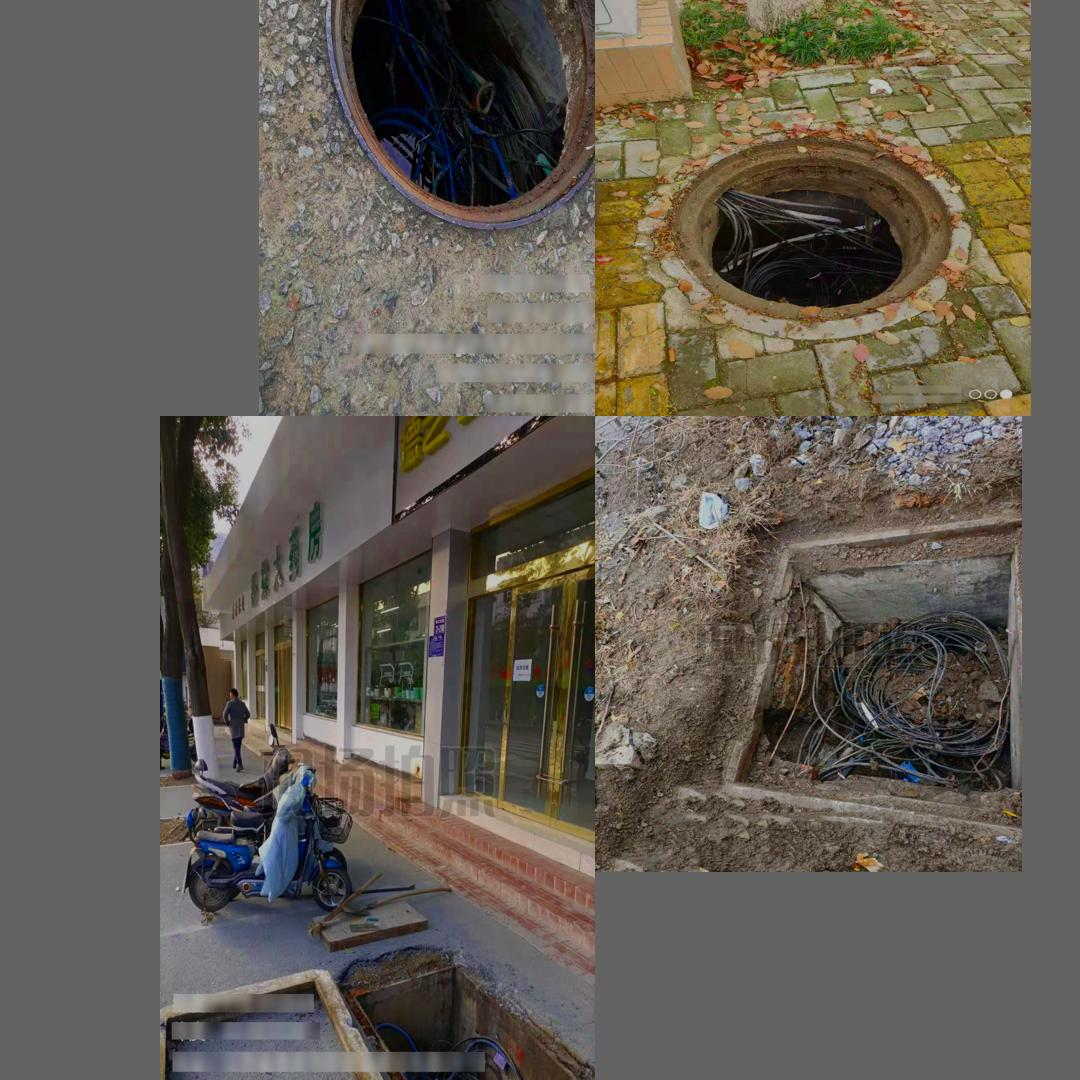lose: (714, 513, 1022, 840), (325, 0, 592, 234), (670, 125, 973, 328), (342, 958, 593, 1080)
